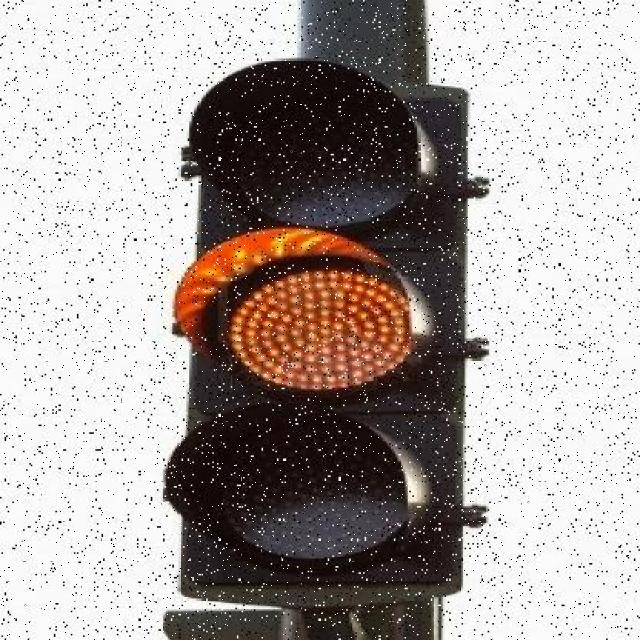yellow-light: (140, 45, 525, 613)
